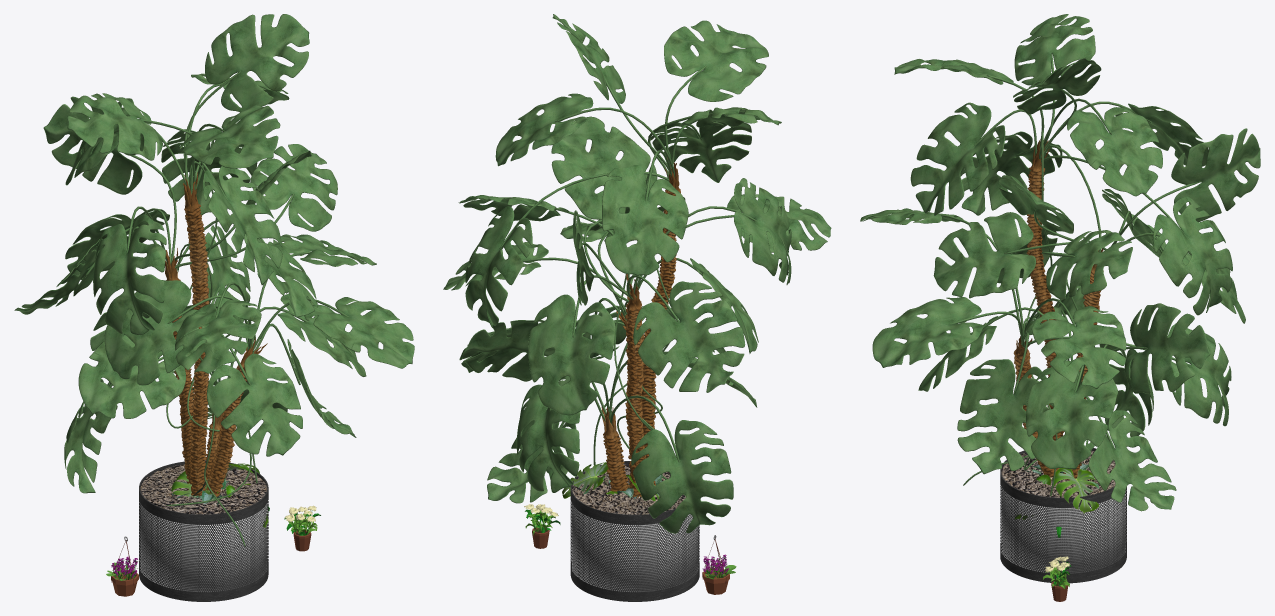
File: house_plants_embedded.glb
3 renders of one model, left to right at view 1: azimuth 30°, elevation 25°; view 2: azimuth 150°, elevation 25°; view 3: azimuth 270°, elevation 25°, orthographic. The views are drawn at different scales.
Visible parts, largest first — view 1: Plant house Mano de leon N251220_0, SM_MZRa_Monstera_B02; view 2: Plant house Mano de leon N251220_0, SM_MZRa_Monstera_B02; view 3: Plant house Mano de leon N251220_0, SM_MZRa_Monstera_B02.
Boxes of the visible parts, x1,y1,x2,y2 form: Plant house Mano de leon N251220_0: (14,14,414,601); SM_MZRa_Monstera_B02: (171,463,268,527); Plant house Mano de leon N251220_0: (443,14,831,601); SM_MZRa_Monstera_B02: (562,462,659,501); Plant house Mano de leon N251220_0: (860,14,1260,583); SM_MZRa_Monstera_B02: (1015,468,1099,519).
Bounding box in the file's own units: 5.06 × 8.17 × 5.6.
24 materials, 9 textured.
